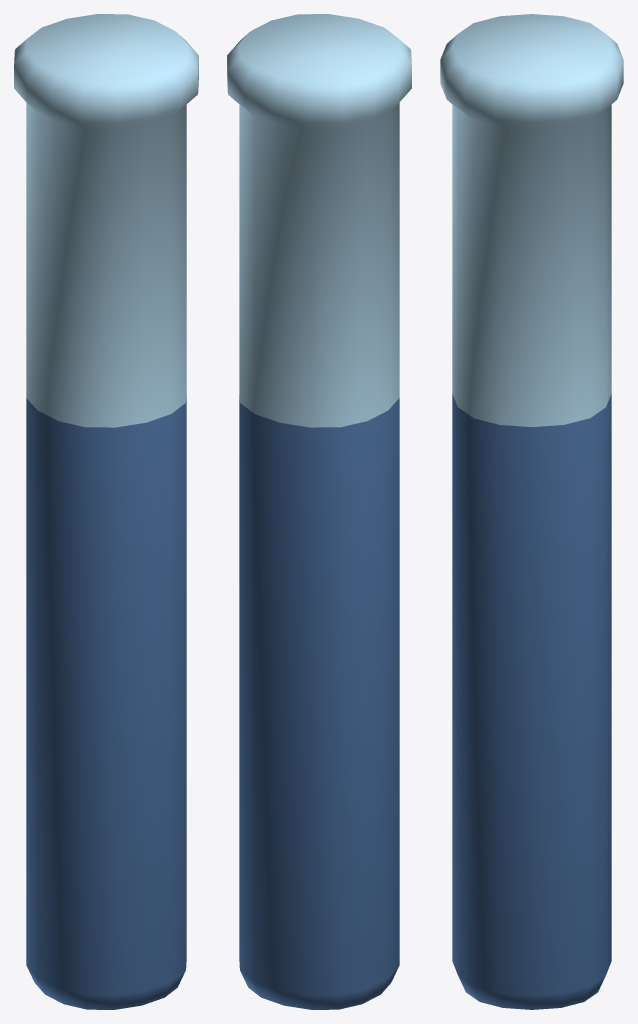
The model's file is Blue flask tube.fbx.
3 views of the same model, side by side, from view 1: azimuth 30°, elevation 25°; view 2: azimuth 150°, elevation 25°; view 3: azimuth 270°, elevation 25° (orthographic).
Visible parts, largest first — view 1: Blue flask tube; view 2: Blue flask tube; view 3: Blue flask tube.
Boxes of the visible parts, bbox=[...] form: Blue flask tube: bbox=[14, 14, 198, 1009]; Blue flask tube: bbox=[227, 14, 411, 1009]; Blue flask tube: bbox=[440, 14, 623, 1009].
Bounding box in the file's own units: 5.49 × 31.09 × 5.49.
